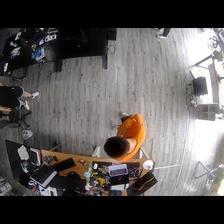normal: (102, 110, 145, 160), (1, 83, 39, 111)
